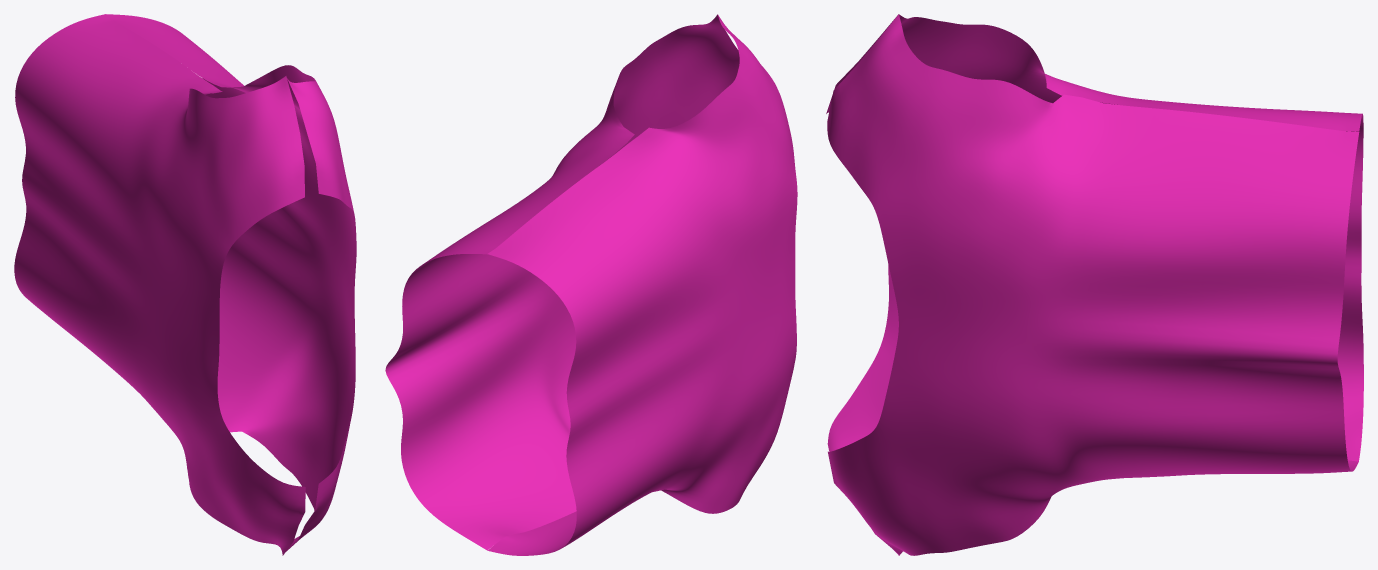
File: en54CM (Sewing öncesi) en 76.7CM (Sewin Sonrası) Boy66CM (aynı).glb
3 renders of one model, left to right at view 1: azimuth 30°, elevation 25°; view 2: azimuth 150°, elevation 25°; view 3: azimuth 270°, elevation 25°, orthographic. The views are drawn at different scales.
Visible parts, largest first — view 1: Plane; view 2: Plane; view 3: Plane.
Part boxes in pixels (x1,y1,x2,y2): Plane: [14, 14, 356, 555]; Plane: [385, 14, 797, 555]; Plane: [826, 14, 1363, 555].
Size of the model in its own units: 0.3881 by 0.8468 by 0.759.
